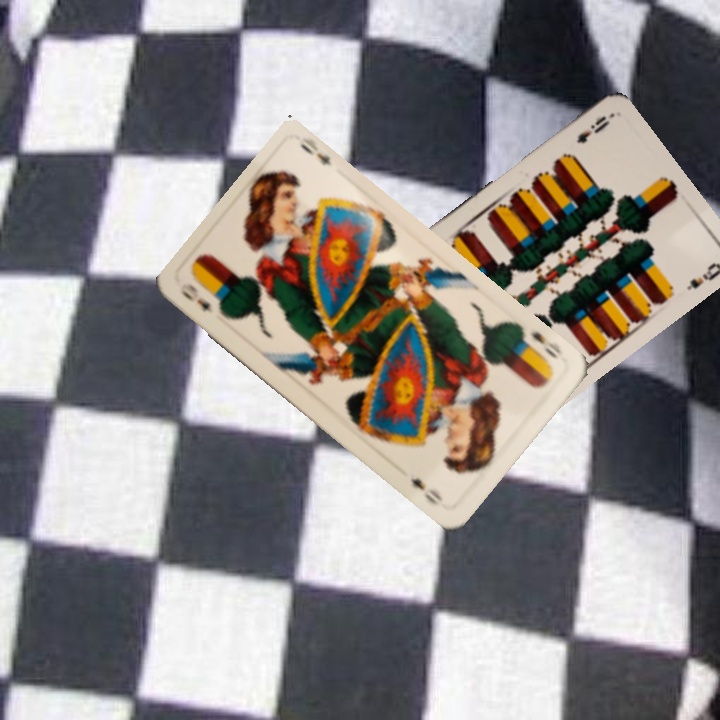E9: (572, 111, 614, 146)
EO: (517, 324, 566, 371), (175, 279, 216, 316)
